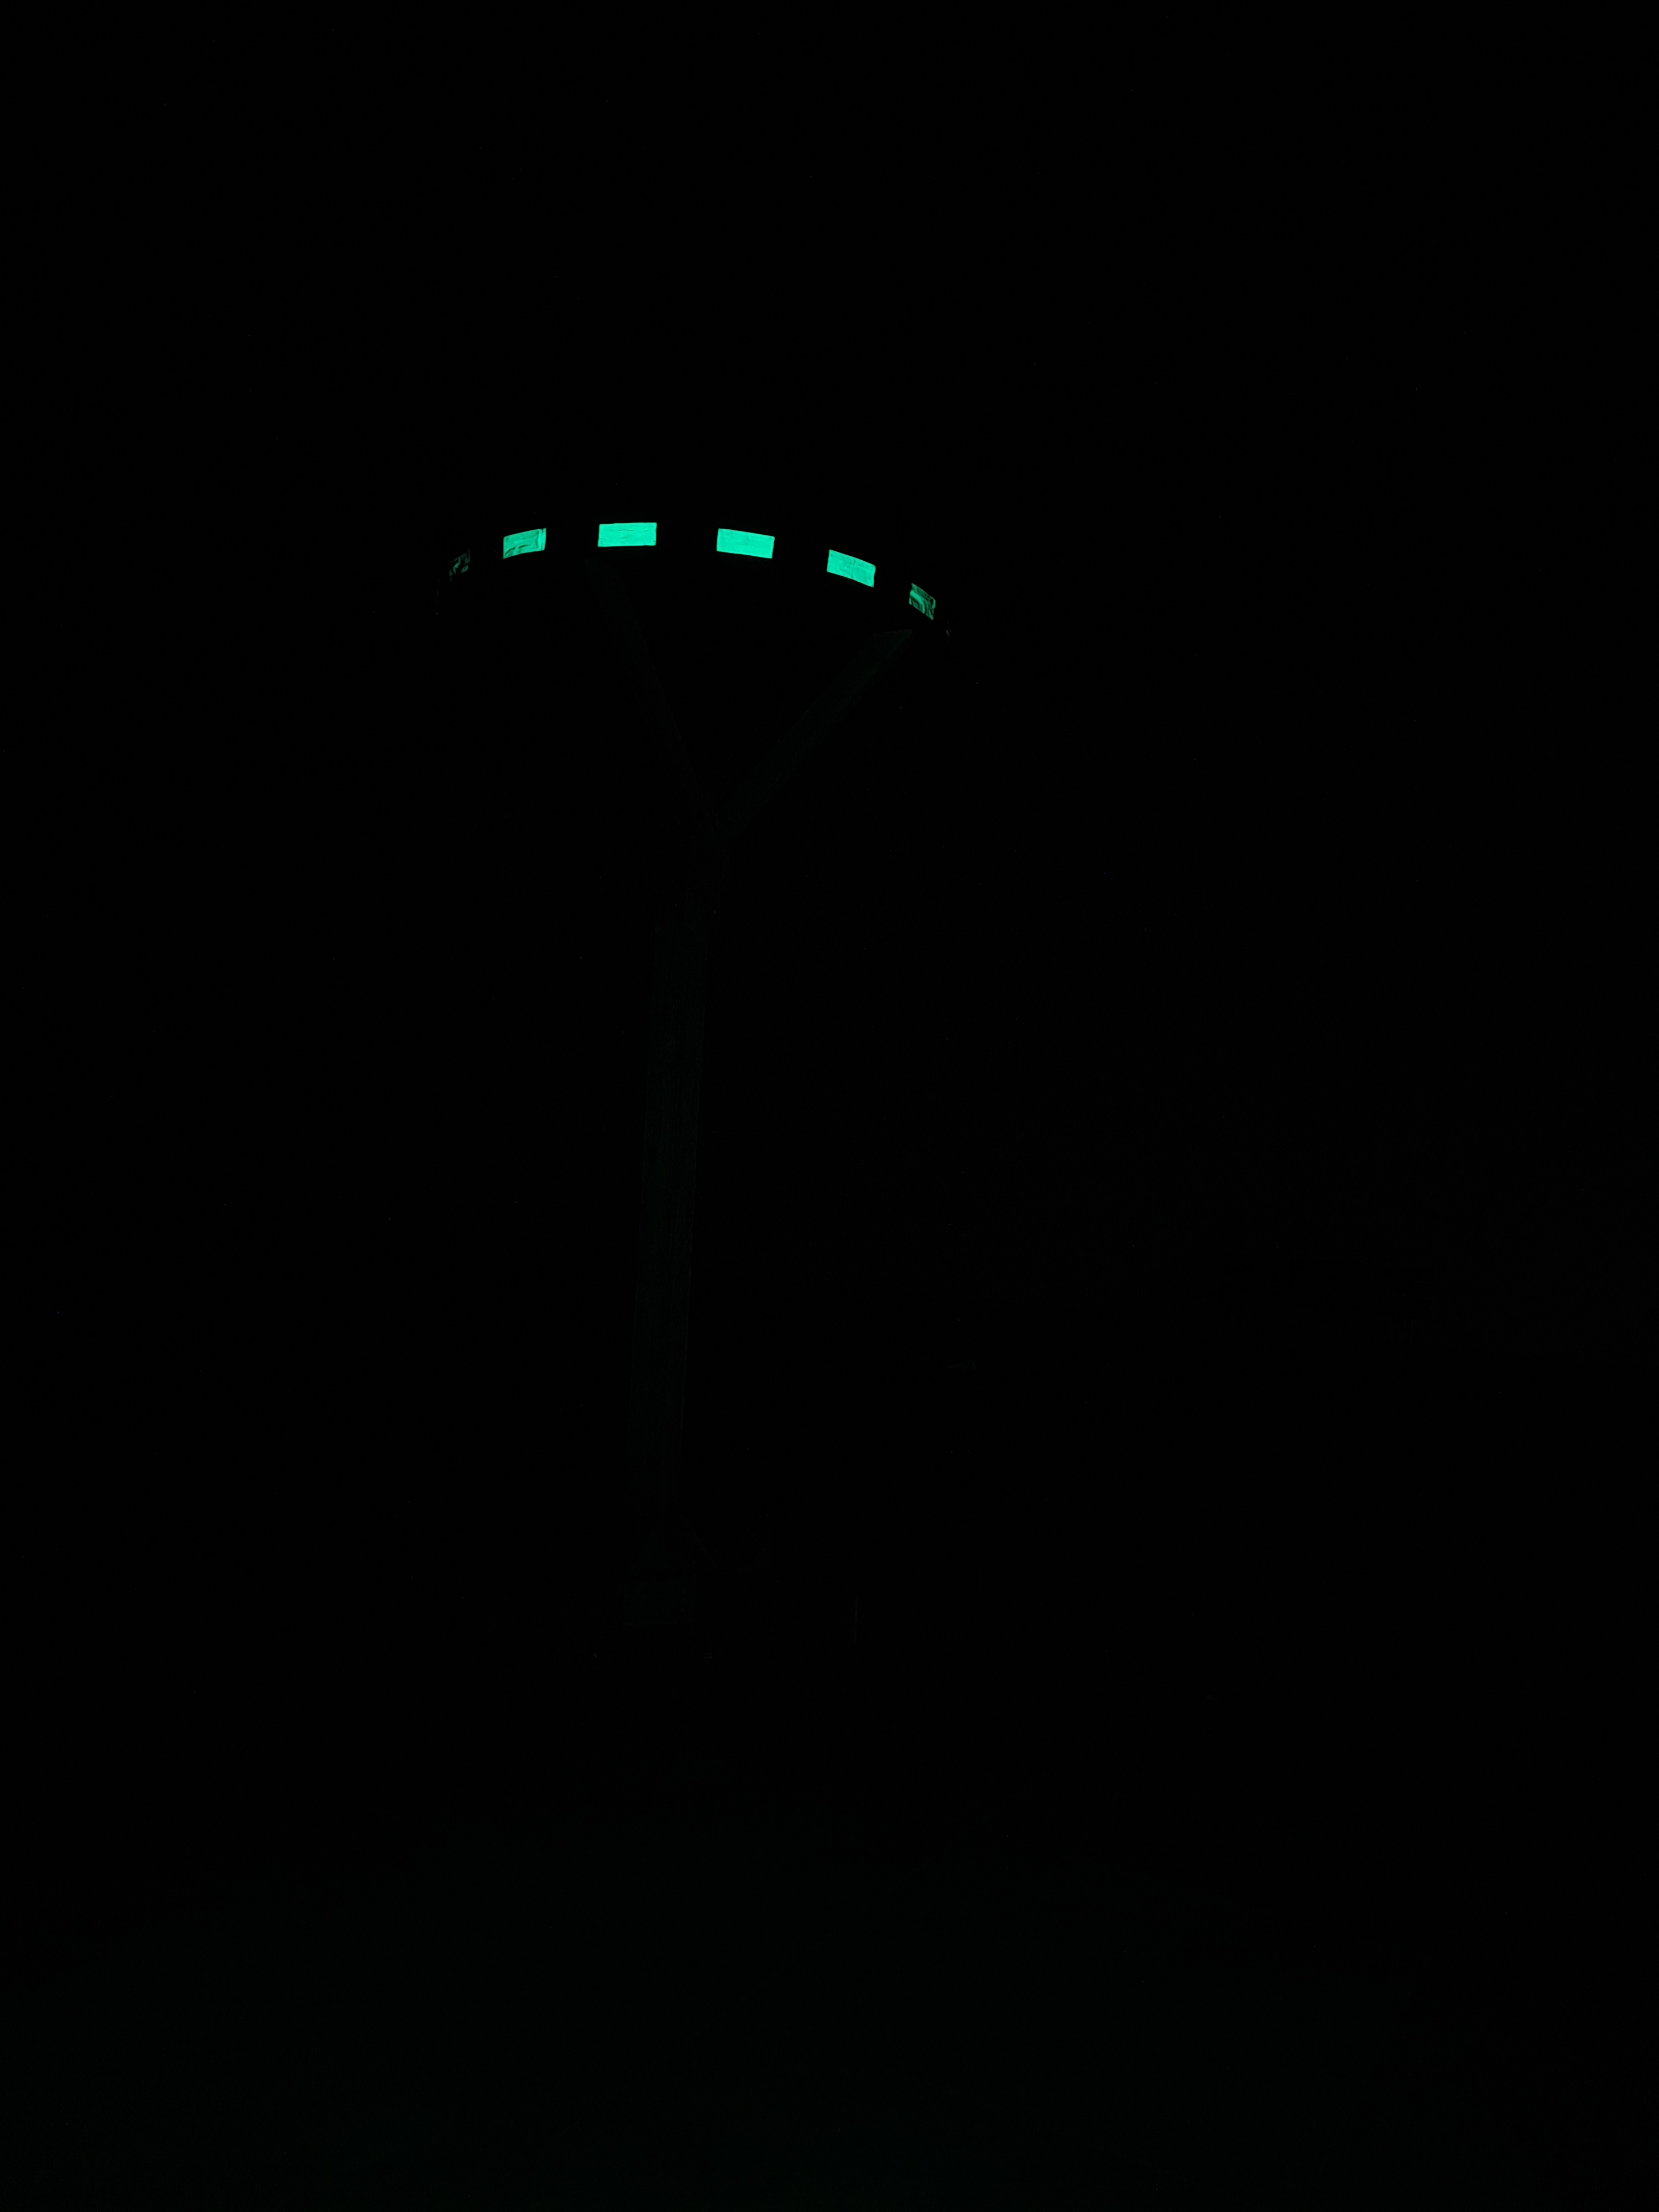hoop: (436, 507, 948, 637)
